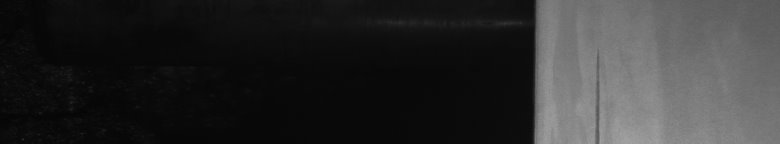hd: (592, 52, 604, 136)
